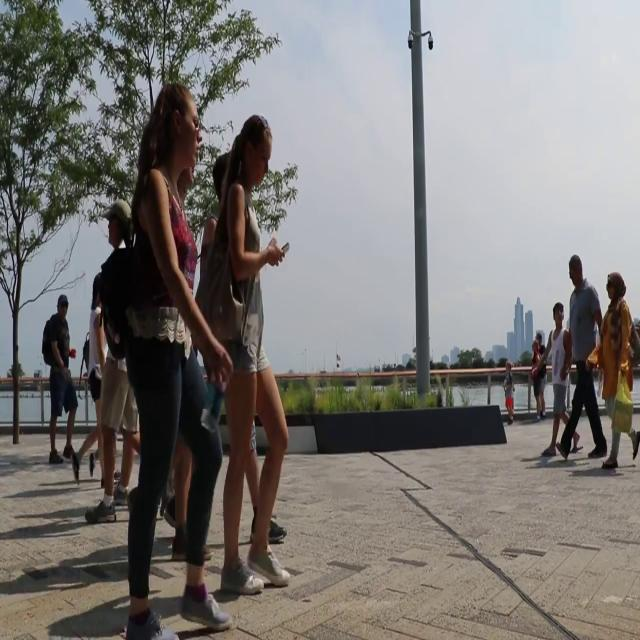normal: (111, 69, 226, 639), (210, 107, 294, 597)
